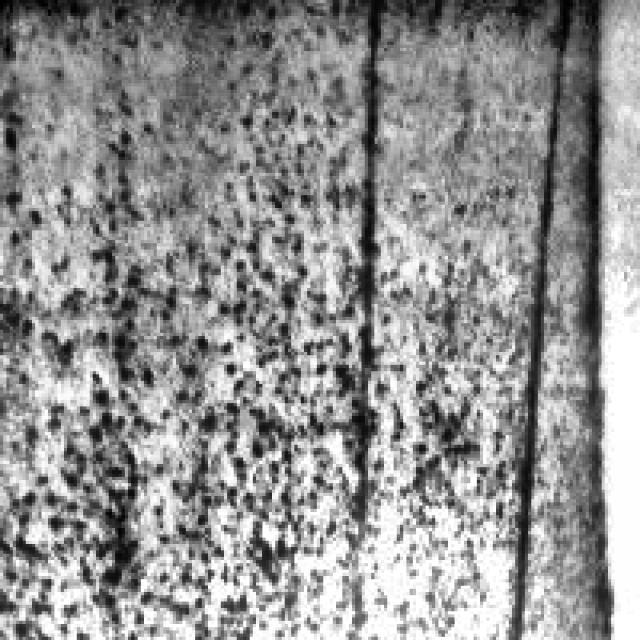Rolled_in_Scale: (3, 6, 364, 628)
